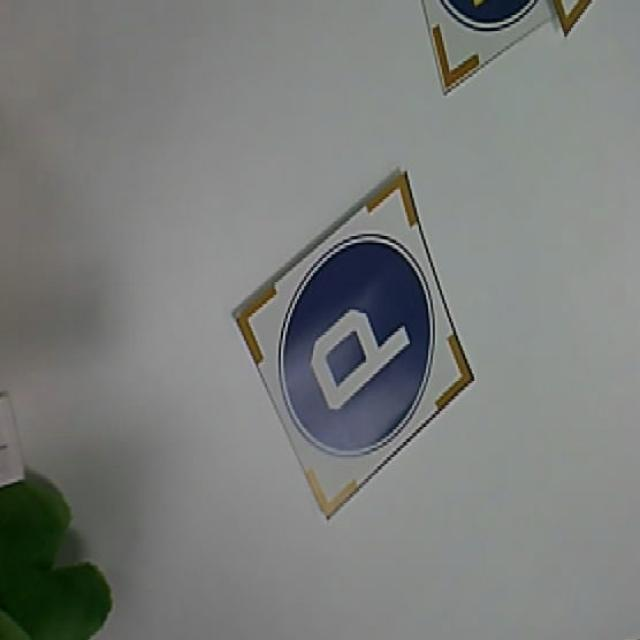parking: (233, 169, 474, 524)
